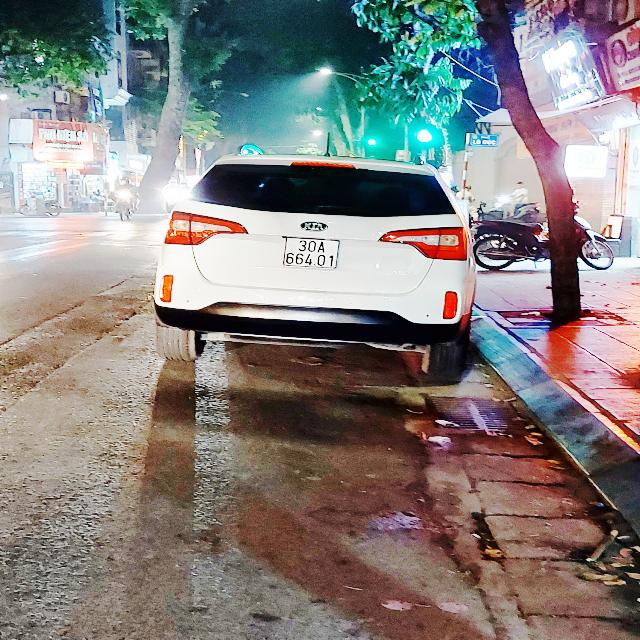license_plate: (277, 235, 345, 273)
